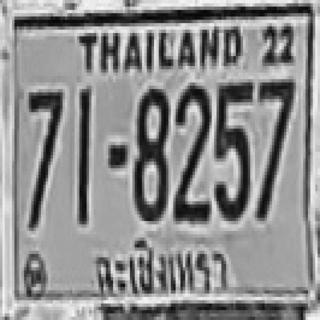N01: (76, 84, 90, 223), (76, 86, 90, 214)
N02: (173, 82, 209, 214)
N05: (213, 79, 252, 218)
N07: (255, 76, 294, 218), (26, 88, 60, 226)
N08: (134, 86, 167, 218)
P07: (85, 231, 233, 304)
